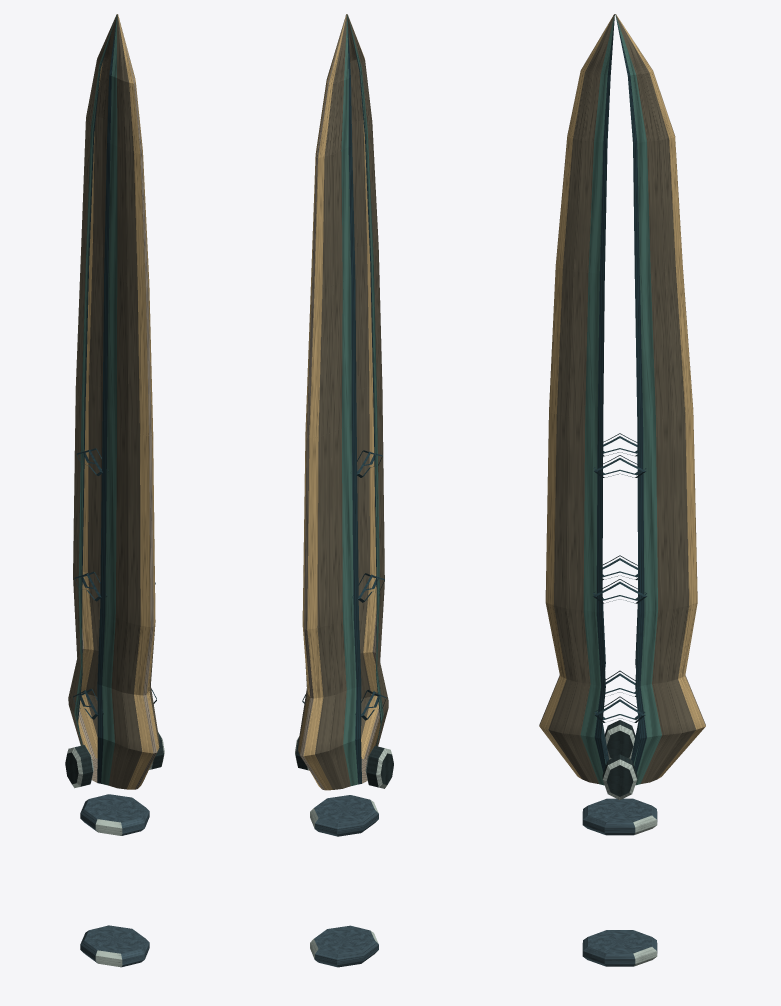
Rendered from primordial_companion_sword_foundation.obj.
3 renders of one model, left to right at view 1: azimuth 30°, elevation 25°; view 2: azimuth 150°, elevation 25°; view 3: azimuth 270°, elevation 25°, orthographic.
Parts seen in each view (by area): view 1: geometry; view 2: geometry; view 3: geometry.
Boxes of the visible parts, x1,y1,x2,y2 form: geometry: [65, 14, 164, 967]; geometry: [295, 14, 393, 967]; geometry: [539, 14, 705, 966].
Size of the model in its own units: 0.1297 by 1.39 by 0.3825.
